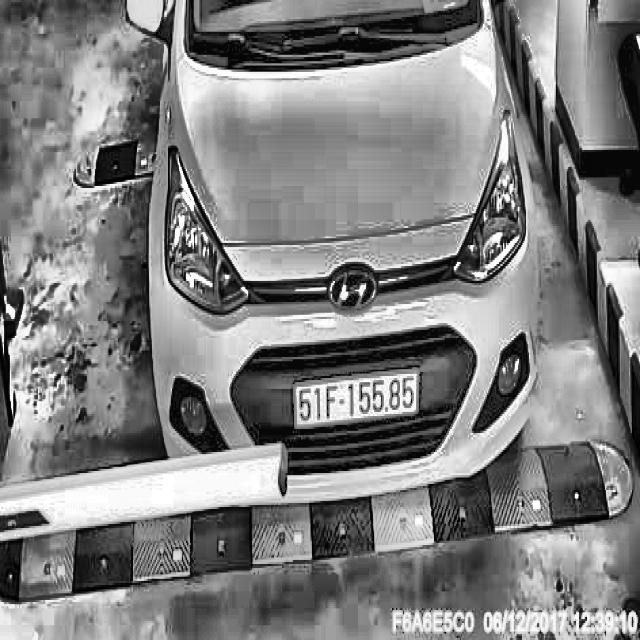plate: (292, 365, 422, 433)
